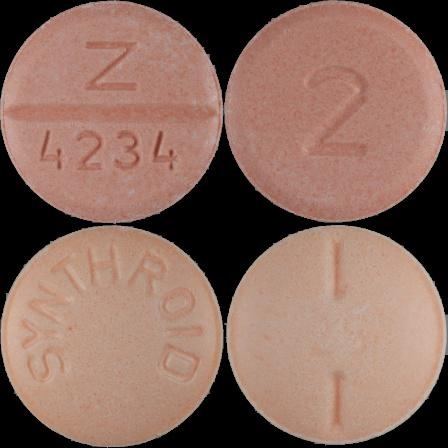69189-4234: (0, 0, 224, 224)
